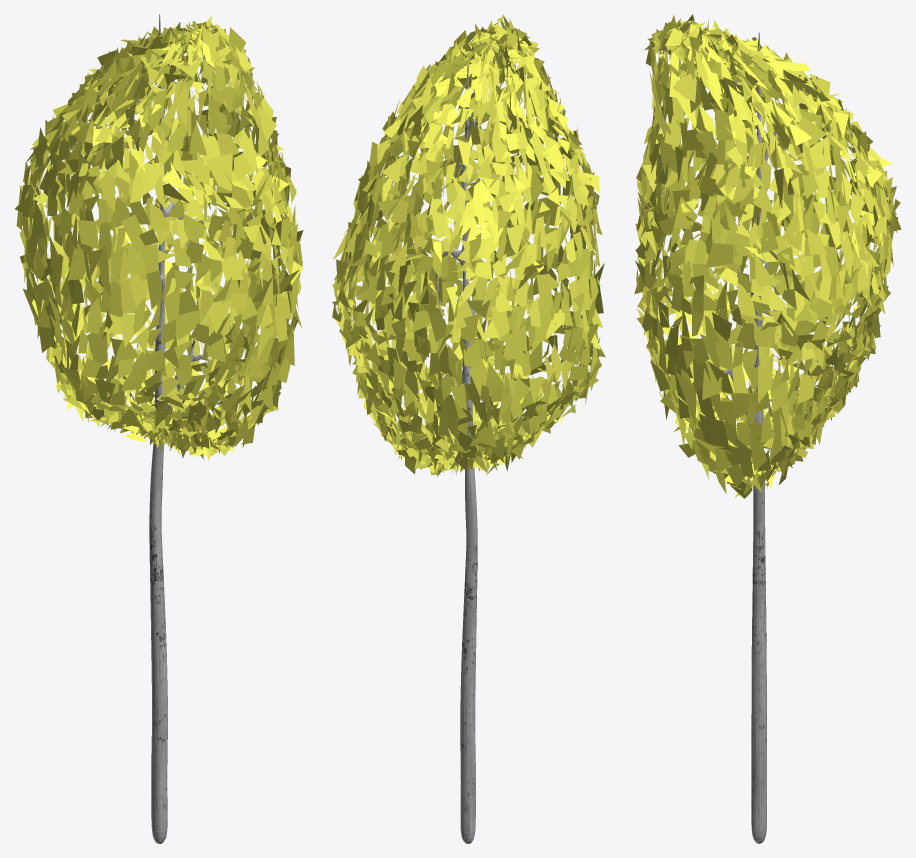
File: Leaves64.fbx
3 renders of one model, left to right at view 1: azimuth 30°, elevation 25°; view 2: azimuth 150°, elevation 25°; view 3: azimuth 270°, elevation 25°, orthographic. The views are drawn at different scales.
Parts seen in each view (by area): view 1: Leaves64; view 2: Leaves64; view 3: Leaves64.
Boxes of the visible parts, box(x1,y1,x2,y2) form: Leaves64: box(15, 14, 303, 843); Leaves64: box(332, 14, 605, 843); Leaves64: box(634, 14, 901, 843).
Size of the model in its own units: 795 by 2628 by 768.
2 materials, 1 textured.
